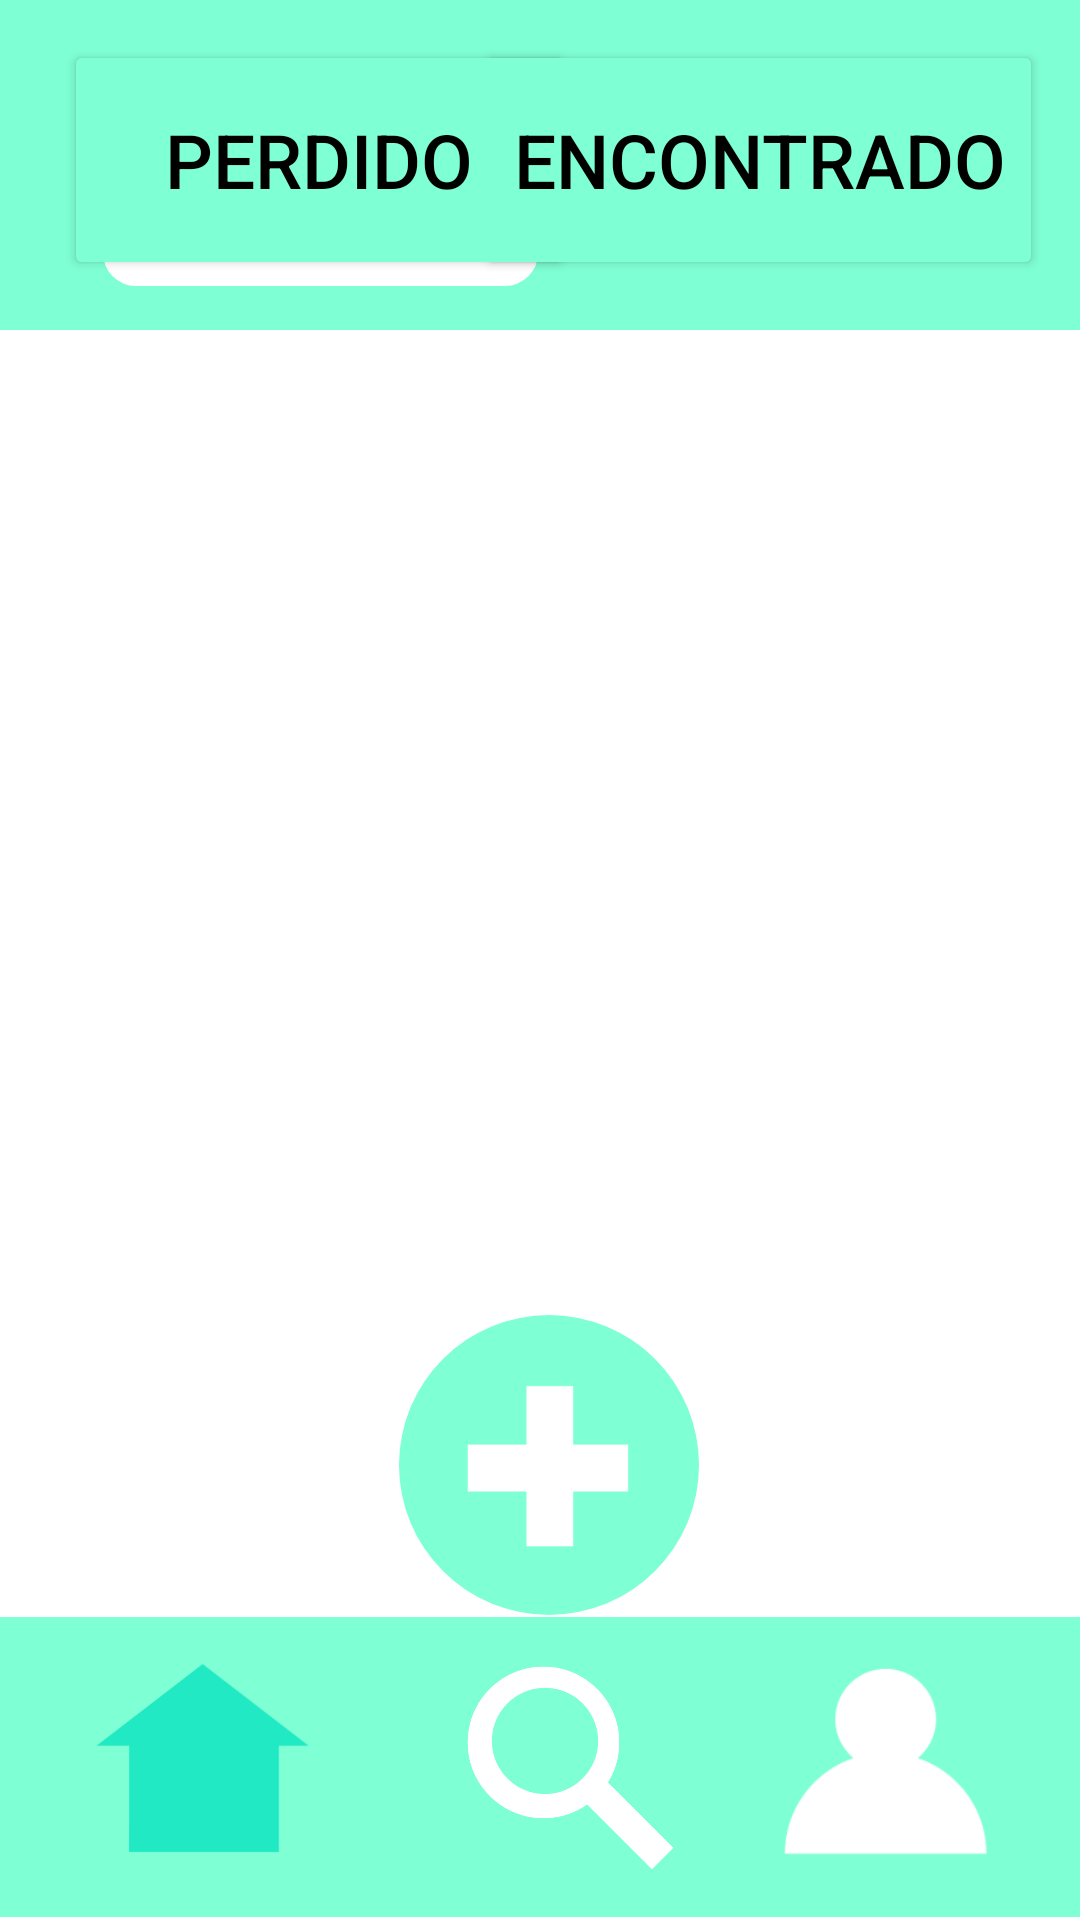

Where icons sit on this 1080px×1920px app screen, as (x1, y1, x2, y2):
Botón forma de casa: (97, 1664, 308, 1852)
Botón forma lupa: (467, 1666, 673, 1869)
Botón forma usuario: (784, 1669, 987, 1854)
